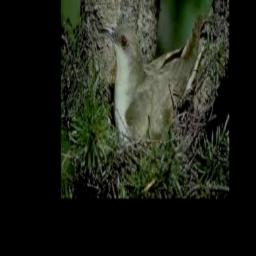Cuckoo: (97, 12, 202, 146)
